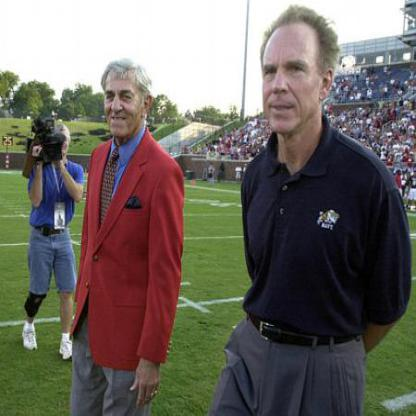face: (257, 17, 324, 137), (104, 62, 146, 140)
